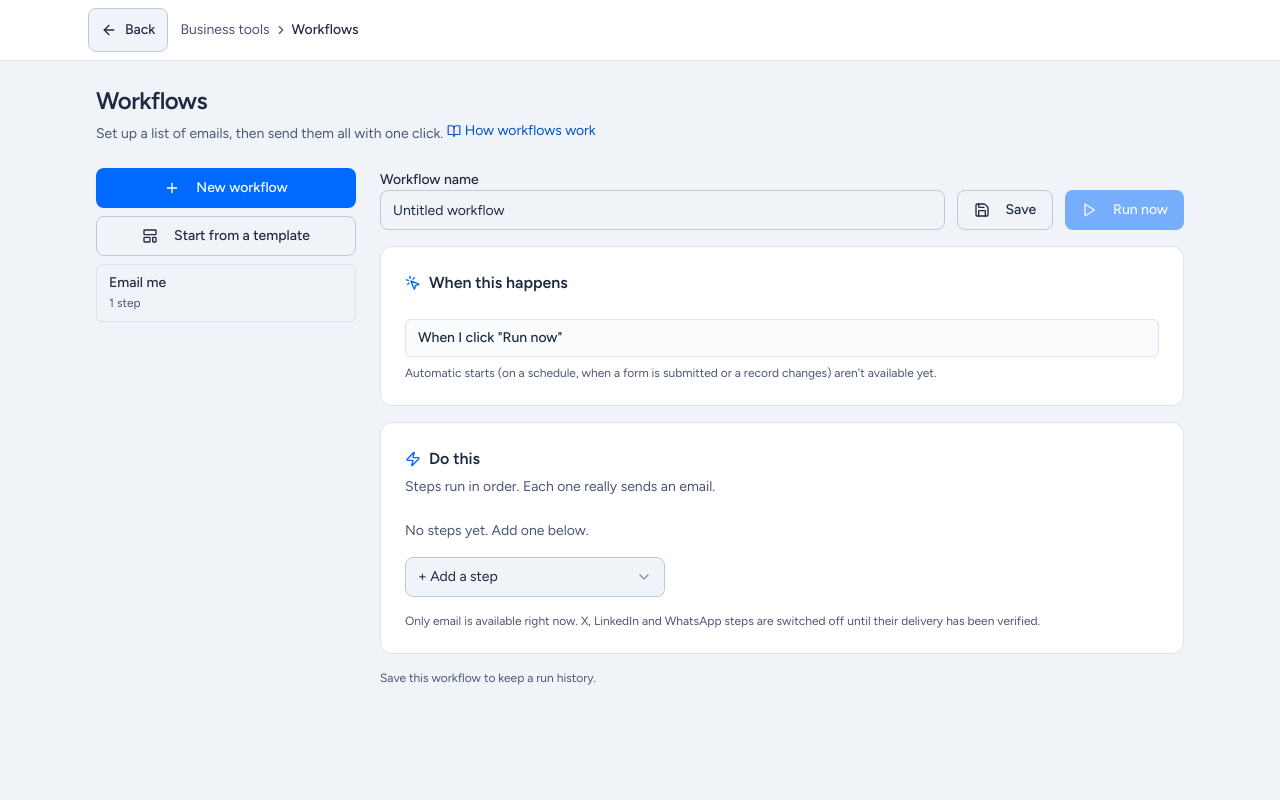
Test case: Run history panel (Phase 15) › empty state
Click the button "Email me 1 step" at {"x": 138, "y": 282}, box [96, 264, 356, 322]
(page scrolled)
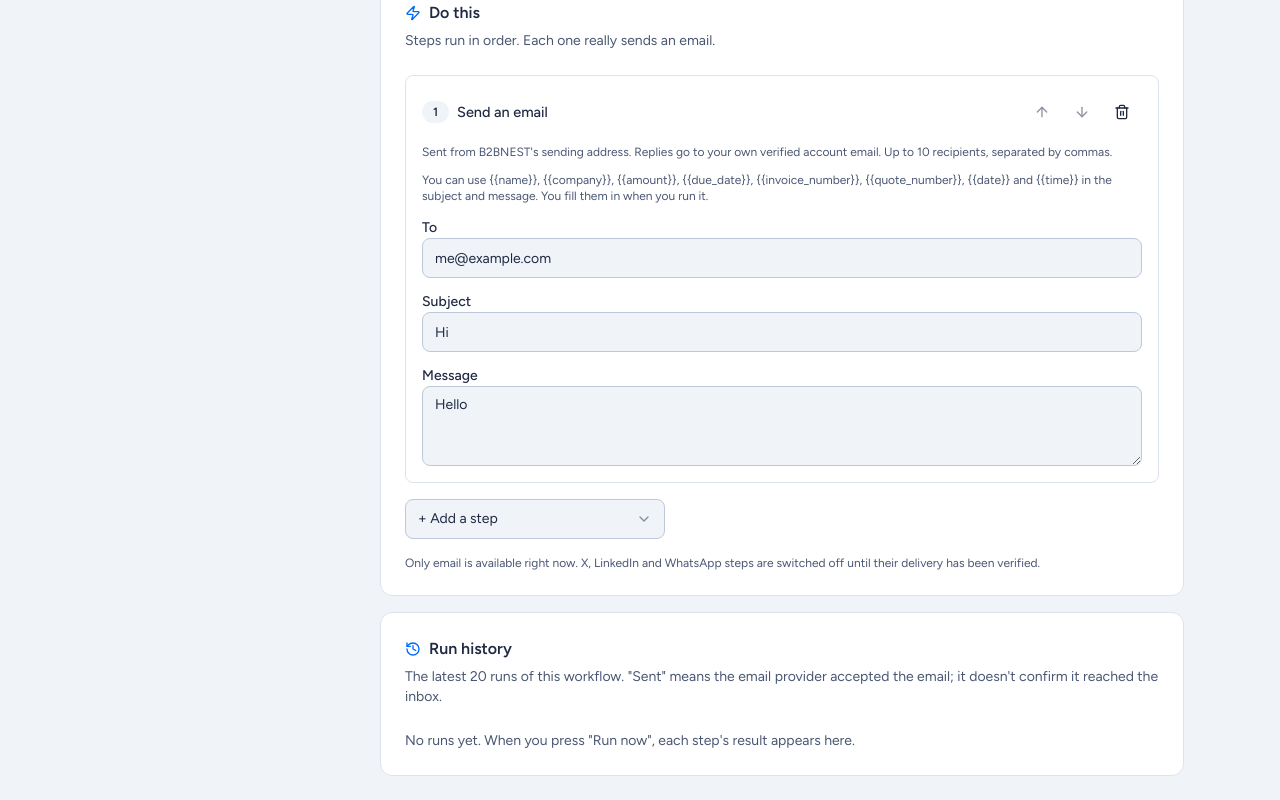
Check: the text "No runs yet" is shown, box [405, 732, 855, 749]
